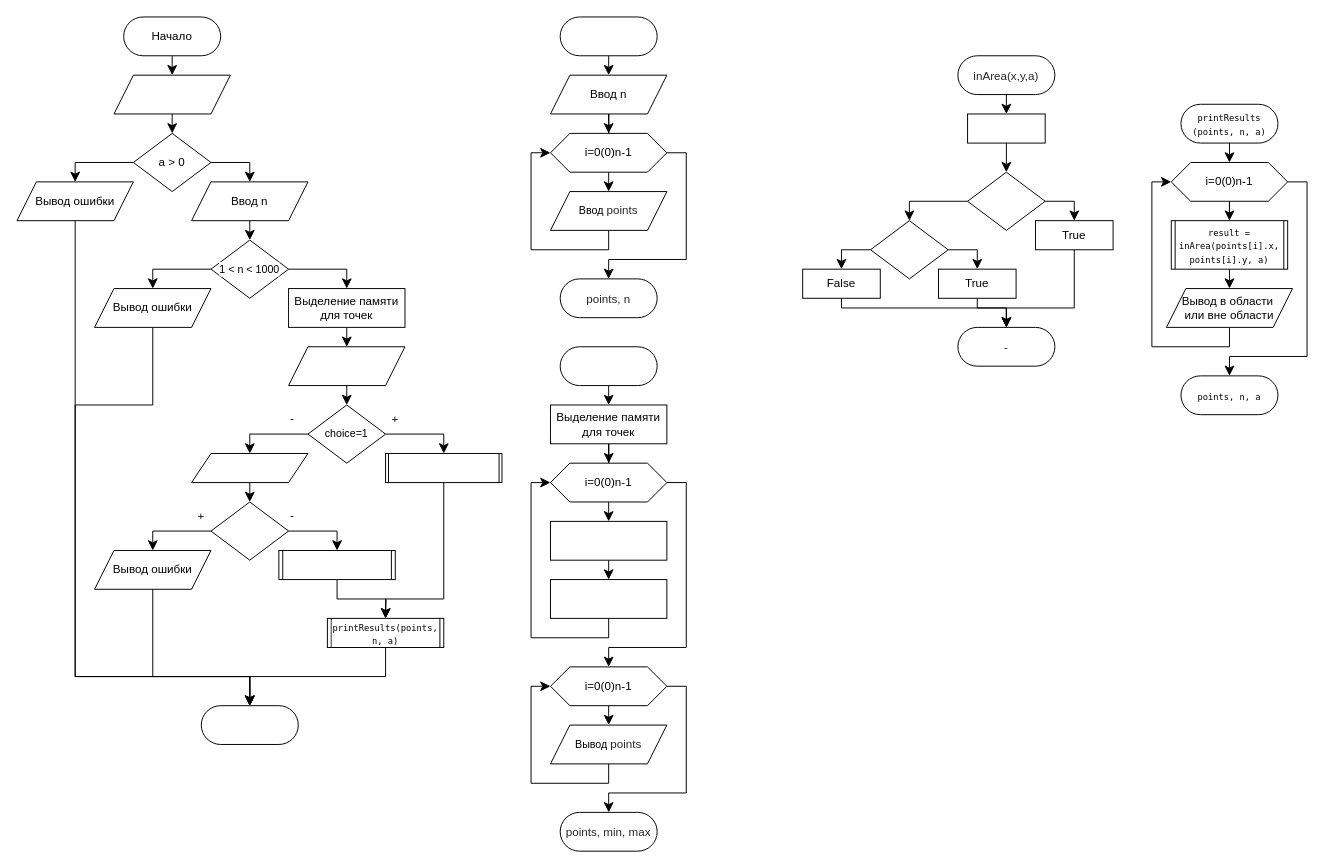
Some shapes in this 1334 by 868 pixel diagram are drawn without their labels. Here are the shapes that lost their labels. From the top down, the centre of each, then its label:
(608,36): manualInput()
(171,94): Ввод a
(1006,128): abs_x=|x|
(1006,200): y>=0 и y<=a и y>=|x|
(909,249): y<=0 и y>=a и y<=|x|
(346,366): Вывод Способы ввода
(608,366): randomInput()
(249,468): Ввод min, max
(443,468): manualInput (points, n)
(249,530): min >= max
(608,540): points[i]. x = min + rand () / RAND_MAX * range
(336,565): randomInput (points, n, min, max)
(608,598): points[i].y = min + rand () / RAND_MAX * range
(249,724): Конец
